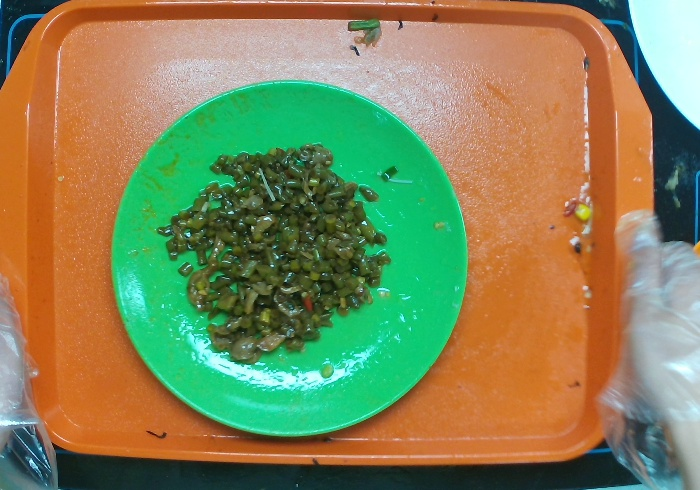HZYJPL-Lv_Se_Yuan_Pan: (108, 63, 472, 451)
